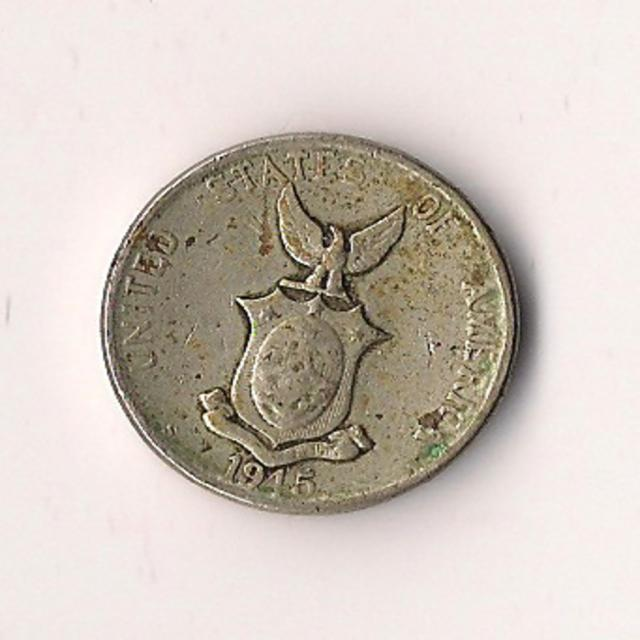Coin: (103, 134, 520, 513)
